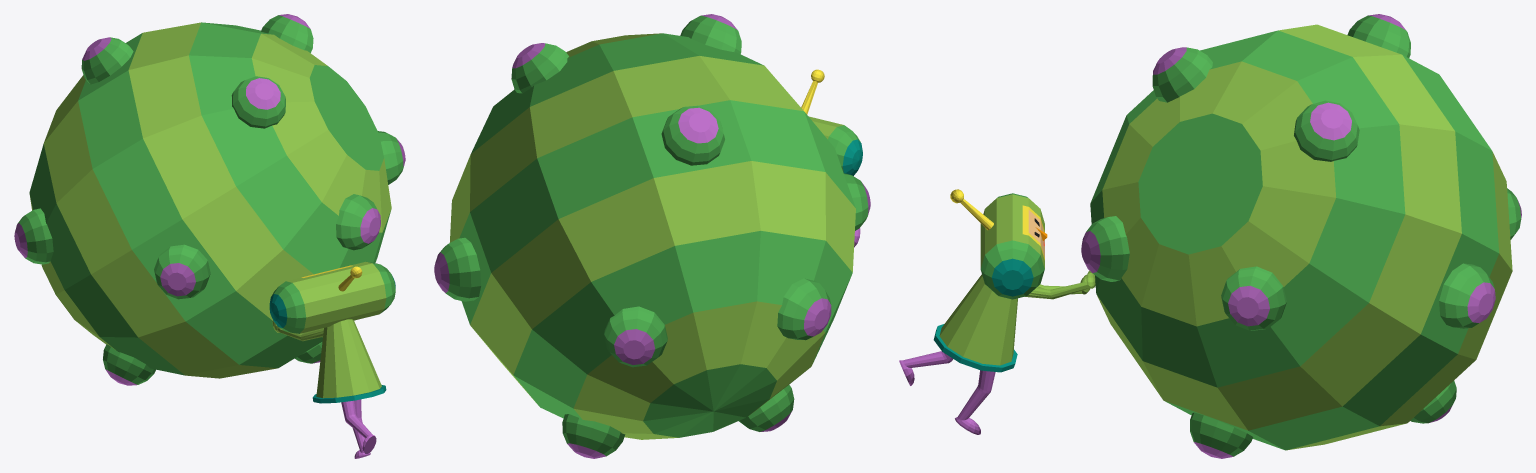
The model's file is greenBall.dae.
3 renders of one model, left to right at view 1: azimuth 30°, elevation 25°; view 2: azimuth 150°, elevation 25°; view 3: azimuth 270°, elevation 25°, orthographic. The views are drawn at different scales.
Parts seen in each view (by area): view 1: meshId1_name, meshId3_name, meshId0_name, meshId2_name; view 2: meshId1_name, meshId3_name, meshId0_name, meshId2_name; view 3: meshId1_name, meshId3_name, meshId0_name, meshId2_name, meshId5_name.
Boxes of the visible parts, left/top/right/bottom form: meshId1_name: left=17, top=15, right=403, bottom=384; meshId3_name: left=30, top=22, right=391, bottom=398; meshId0_name: left=14, top=14, right=405, bottom=458; meshId2_name: left=269, top=274, right=395, bottom=403; meshId1_name: left=439, top=15, right=868, bottom=456; meshId3_name: left=449, top=33, right=855, bottom=439; meshId0_name: left=434, top=14, right=870, bottom=458; meshId2_name: left=842, top=139, right=862, bottom=175; meshId1_name: left=980, top=15, right=1521, bottom=456; meshId3_name: left=939, top=24, right=1512, bottom=450; meshId0_name: left=899, top=14, right=1521, bottom=458; meshId2_name: left=933, top=258, right=1033, bottom=372; meshId5_name: left=950, top=189, right=1044, bottom=260.
Bounding box in the file's own units: 0.166 × 0.1479 × 0.2203.
